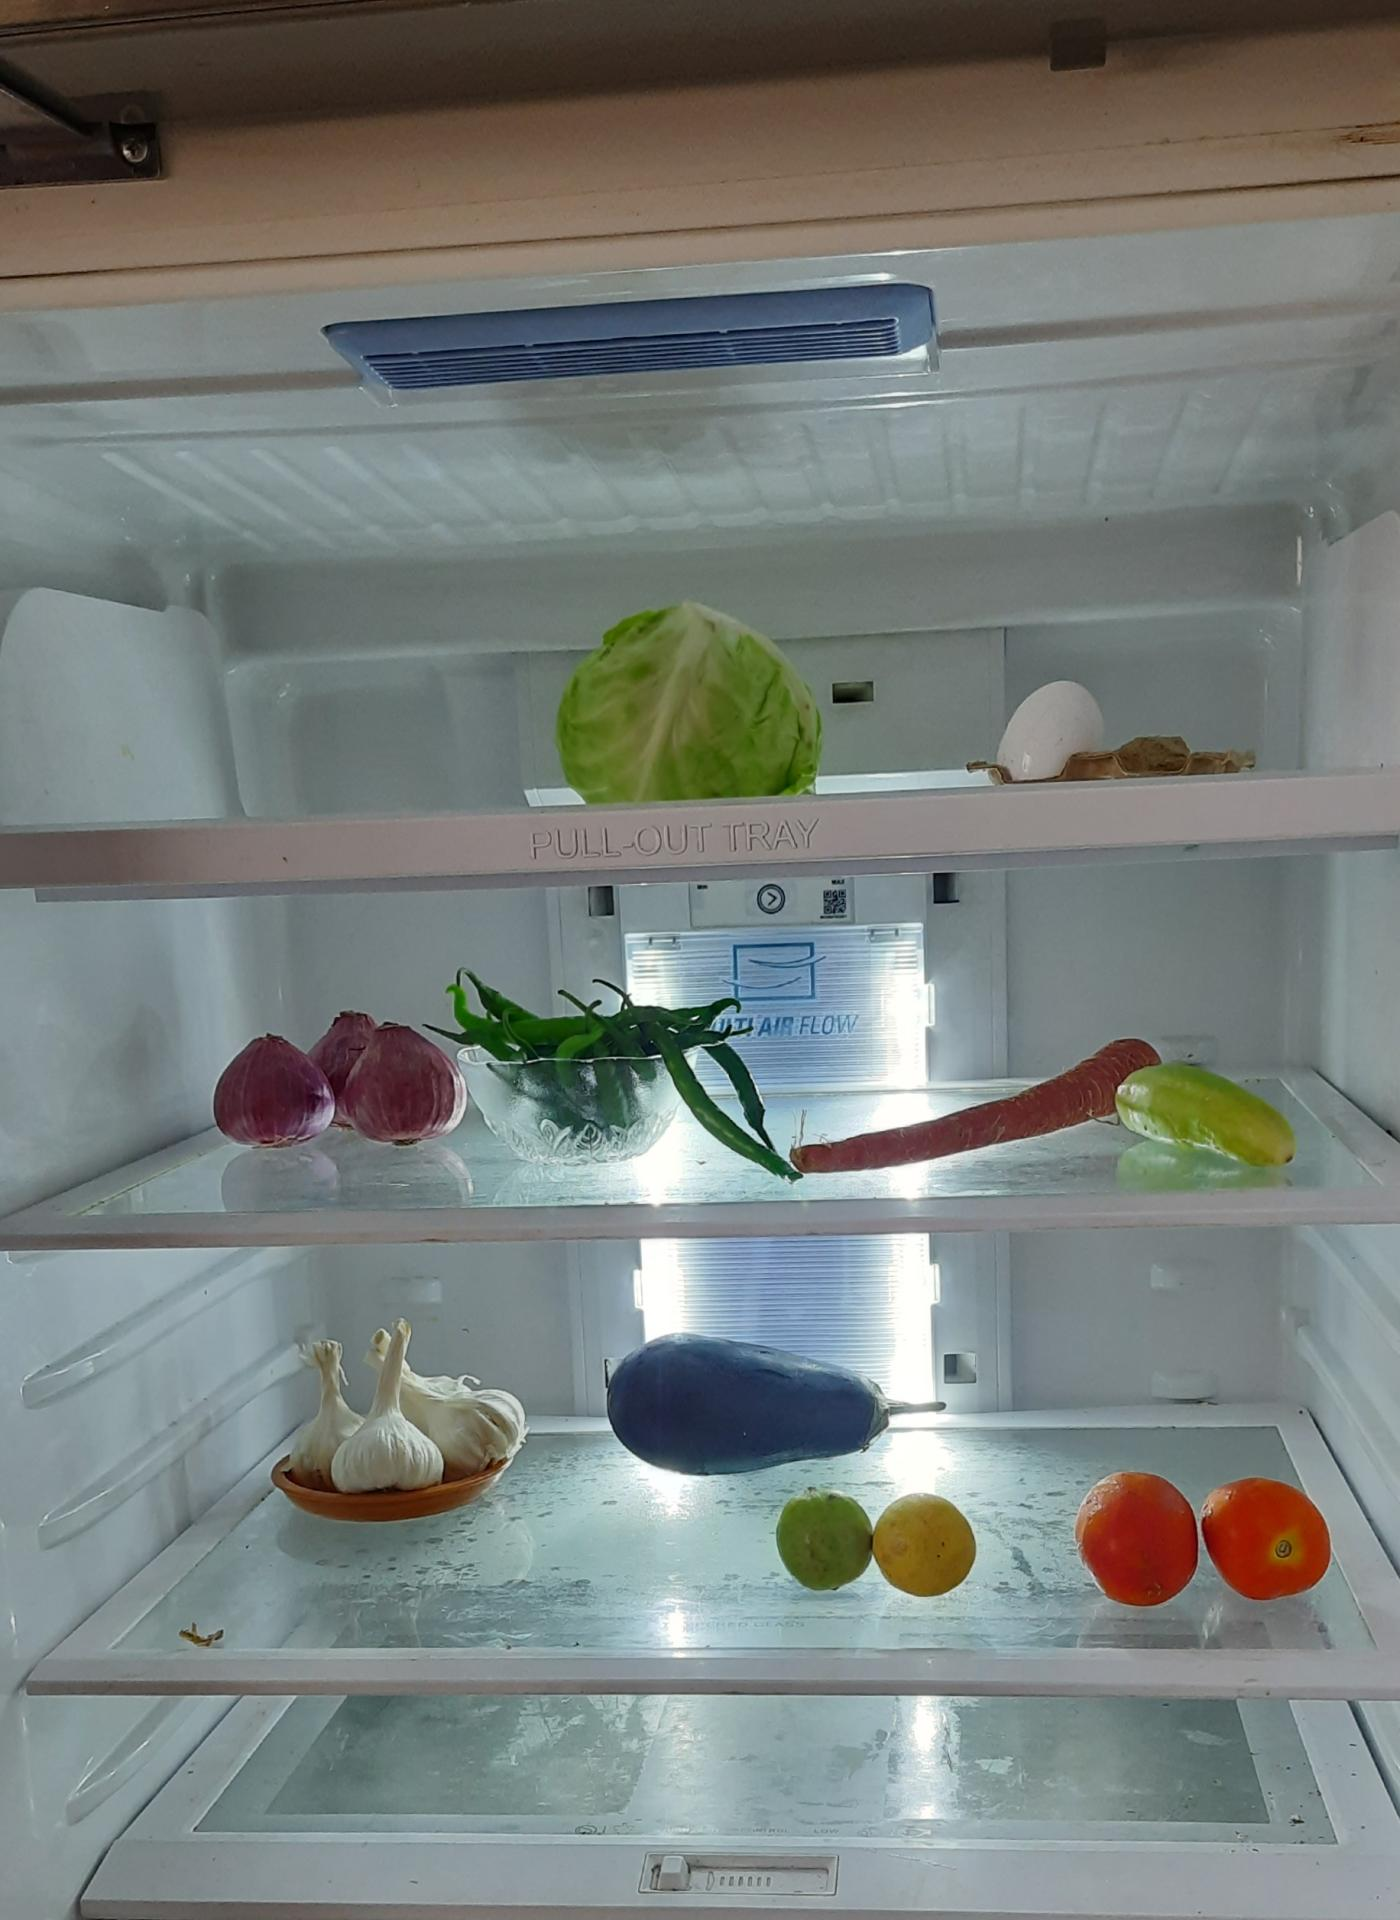brinjal: (602, 1336, 930, 1465)
cabbage: (553, 598, 832, 806)
carrots: (729, 1054, 1151, 1187)
chillies: (452, 966, 672, 1146)
cucumber: (1121, 1063, 1305, 1170)
egg: (927, 675, 1148, 787)
garlic: (289, 1315, 516, 1500)
lemon: (774, 1485, 986, 1604)
onion: (209, 1011, 476, 1157)
tomato: (1069, 1467, 1328, 1608)
